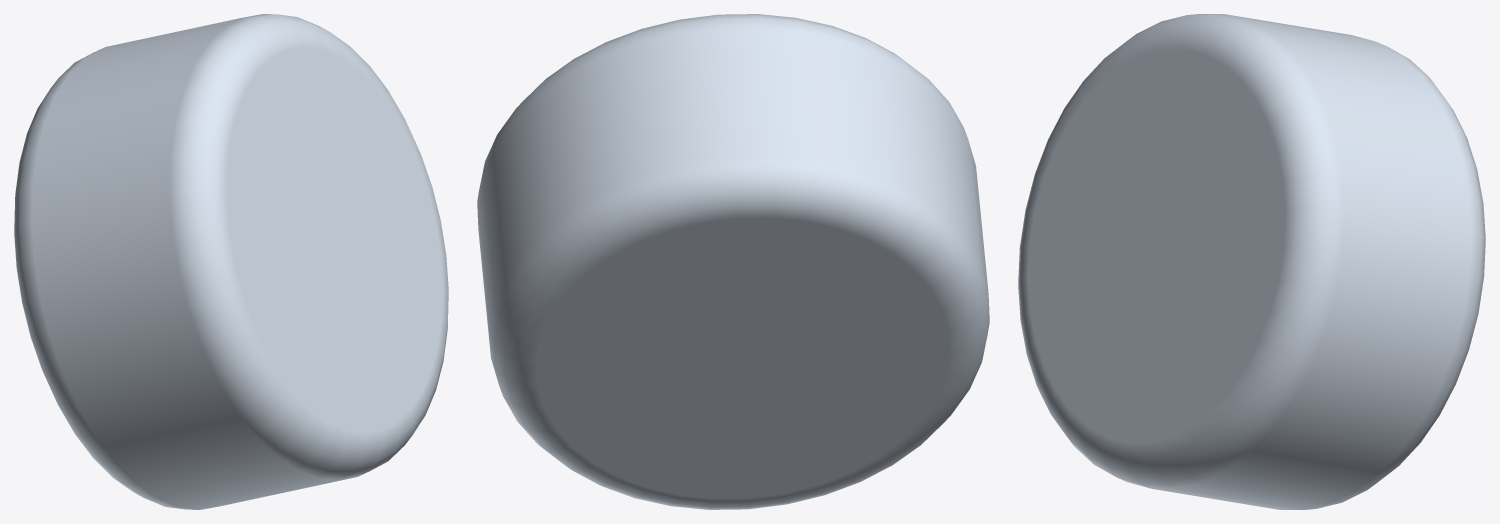
File: RB-028_viewer.glb
3 views of the same model, side by side, from view 1: azimuth 30°, elevation 25°; view 2: azimuth 150°, elevation 25°; view 3: azimuth 270°, elevation 25° (orthographic). The views are drawn at different scales.
Visible parts, largest first — view 1: basebody_imported1; view 2: basebody_imported1; view 3: basebody_imported1.
Part boxes in pixels (bbox=[...]): basebody_imported1: bbox=[14, 14, 448, 509]; basebody_imported1: bbox=[477, 14, 989, 509]; basebody_imported1: bbox=[1018, 14, 1485, 509].
Size of the model in its own units: 0.00608 by 0.00615 by 0.0056.
